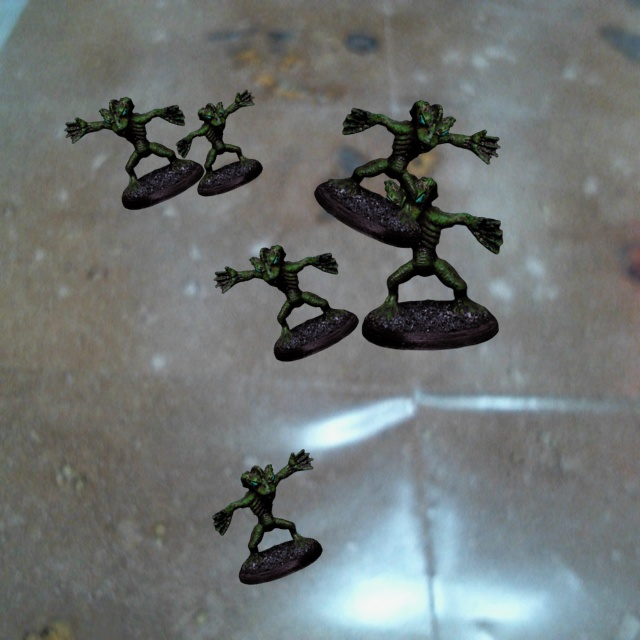pieza_juego: (321, 173, 502, 350), (314, 100, 500, 247), (214, 245, 358, 361), (64, 97, 204, 209), (212, 449, 322, 584), (176, 89, 262, 196)
